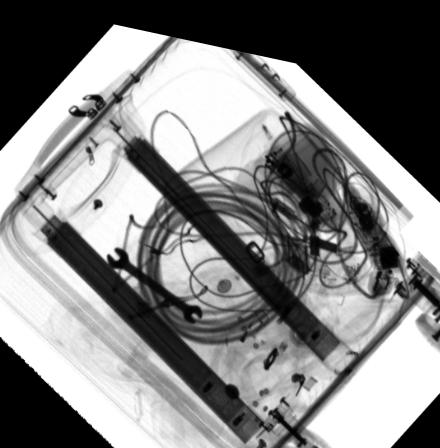Wrench: (106, 241, 202, 316)
